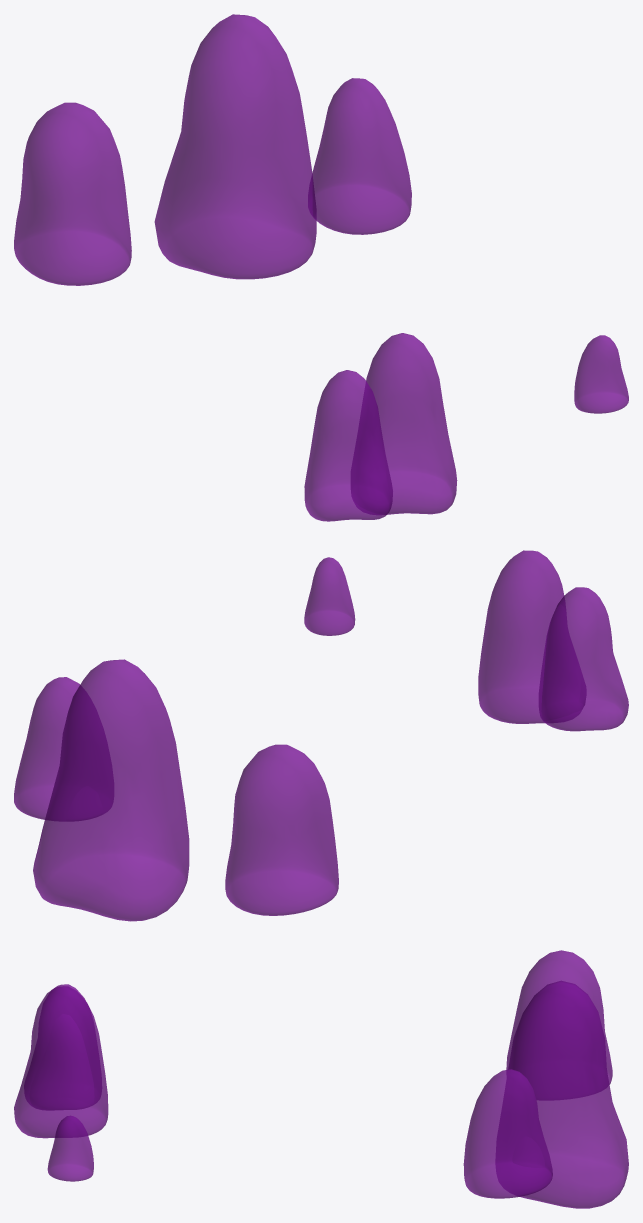
The model's file is Montañas_Gelatina_Texturizada.fbx.
3 views of the same model, one above another, from view 1: azimuth 30°, elevation 25°; view 2: azimuth 150°, elevation 25°; view 3: azimuth 270°, elevation 25° (orthographic). The views are drawn at different scales.
Visible parts, largest first — view 1: Gelatinas.002, Gelatinas.003, Gelatinas.005, Gelatinas.001, Gelatinas.006, Gelatinas.004; view 2: Gelatinas.002, Gelatinas.003, Gelatinas.005, Gelatinas.001, Gelatinas.006, Gelatinas.004; view 3: Gelatinas.002, Gelatinas.003, Gelatinas.005, Gelatinas.001, Gelatinas.006, Gelatinas.004.
Boxes of the visible parts, left/top/right/bottom form: Gelatinas.002: left=154, top=14, right=316, bottom=279; Gelatinas.003: left=14, top=102, right=131, bottom=285; Gelatinas.005: left=351, top=333, right=457, bottom=514; Gelatinas.001: left=308, top=78, right=411, bottom=234; Gelatinas.006: left=304, top=370, right=392, bottom=521; Gelatinas.004: left=574, top=335, right=628, bottom=413; Gelatinas.002: left=33, top=659, right=189, bottom=921; Gelatinas.003: left=225, top=744, right=338, bottom=915; Gelatinas.005: left=478, top=550, right=586, bottom=723; Gelatinas.001: left=14, top=677, right=113, bottom=821; Gelatinas.006: left=539, top=587, right=628, bottom=731; Gelatinas.004: left=304, top=557, right=355, bottom=635; Gelatinas.002: left=496, top=980, right=628, bottom=1208; Gelatinas.003: left=506, top=950, right=612, bottom=1099; Gelatinas.005: left=14, top=986, right=108, bottom=1138; Gelatinas.001: left=463, top=1069, right=552, bottom=1198; Gelatinas.006: left=24, top=984, right=101, bottom=1110; Gelatinas.004: left=47, top=1115, right=93, bottom=1181.
Bounding box in the file's own units: 16327 × 10392 × 28659.
